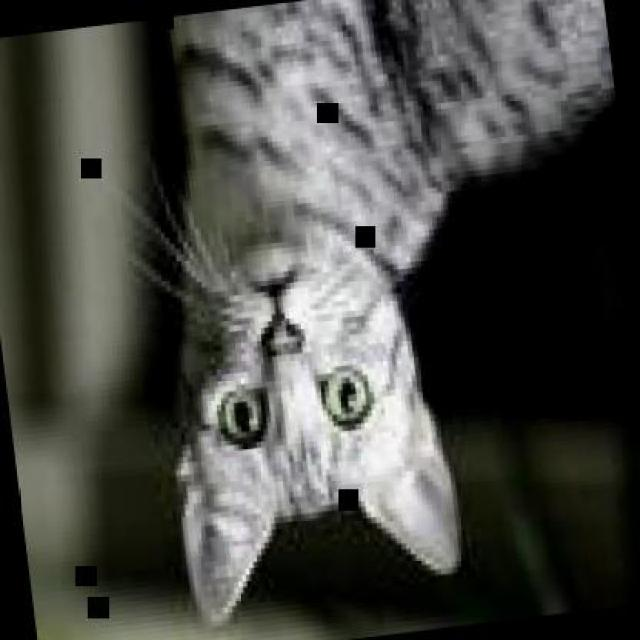cat: (116, 0, 638, 635)
